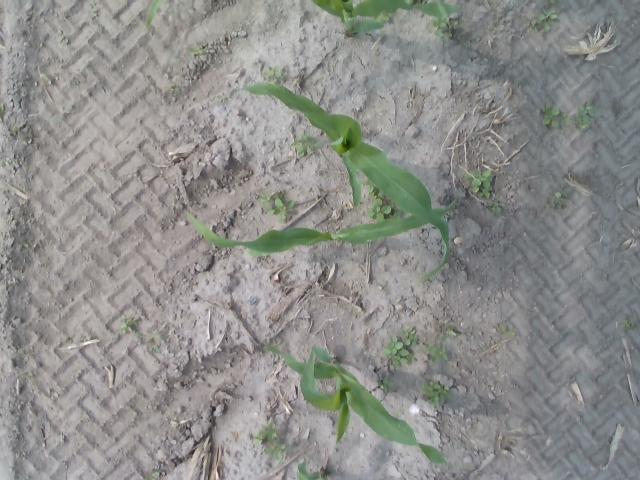Maize: (215, 83, 450, 283), (262, 339, 448, 466), (183, 199, 457, 253), (147, 1, 458, 36), (298, 463, 329, 480)
Weeds: (382, 336, 408, 366), (469, 169, 493, 198), (119, 316, 143, 342), (267, 198, 293, 220), (540, 103, 562, 128), (366, 198, 388, 220), (293, 135, 317, 154), (423, 382, 446, 400), (578, 102, 595, 126), (424, 342, 446, 360), (266, 441, 286, 460), (256, 424, 278, 440), (540, 9, 556, 30), (406, 326, 418, 346), (432, 20, 446, 36), (148, 337, 160, 354), (378, 376, 391, 390), (526, 19, 538, 34), (501, 324, 514, 337), (550, 192, 564, 204), (492, 198, 502, 212), (268, 68, 282, 78), (622, 319, 634, 330), (154, 330, 166, 340), (260, 192, 271, 202), (192, 48, 202, 56)
